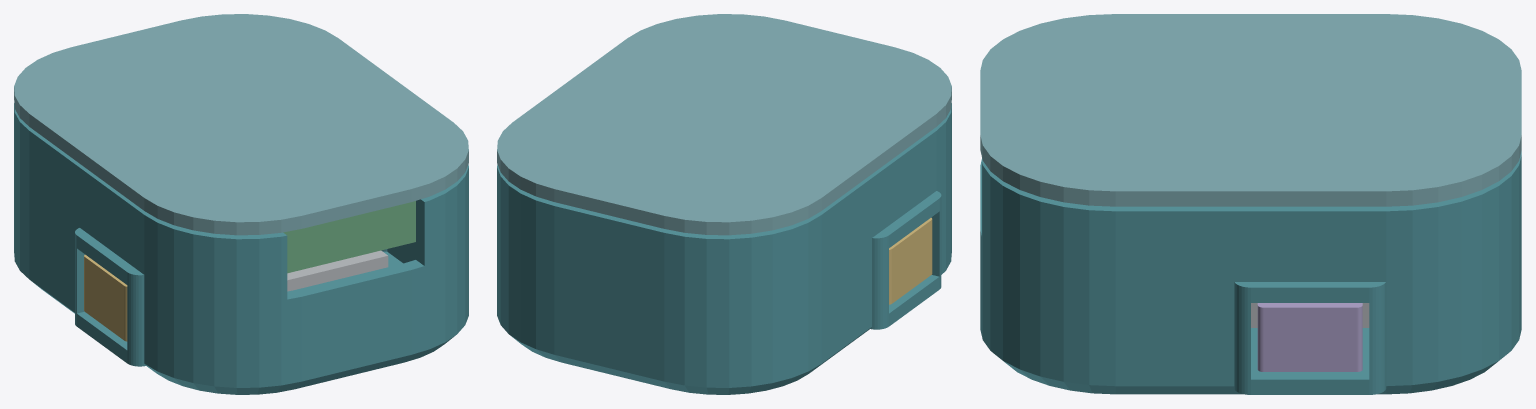
Rendered from Handheld_Right_4Button.glb.
3 views of the same model, side by side, from view 1: azimuth 30°, elevation 25°; view 2: azimuth 150°, elevation 25°; view 3: azimuth 270°, elevation 25° (orthographic). The views are drawn at different scales.
Visible parts, largest first — view 1: Lift_Off_Lid, Handheld_Shell, Board_Envelope, Thumb_Click_Cap, Battery_Envelope; view 2: Lift_Off_Lid, Handheld_Shell, Thumb_Click_Cap; view 3: Lift_Off_Lid, Handheld_Shell, Far_Side_Cap.
Part boxes in pixels (x1,y1,x2,y2): Lift_Off_Lid: (14, 14, 468, 235); Handheld_Shell: (14, 103, 468, 394); Board_Envelope: (283, 201, 415, 273); Thumb_Click_Cap: (84, 254, 127, 341); Battery_Envelope: (287, 250, 388, 291); Lift_Off_Lid: (497, 14, 951, 235); Handheld_Shell: (497, 103, 951, 394); Thumb_Click_Cap: (889, 217, 932, 304); Lift_Off_Lid: (980, 14, 1521, 206); Handheld_Shell: (980, 151, 1521, 394); Far_Side_Cap: (1257, 303, 1362, 371).
Size of the model in its own units: 0.0264 by 0.0168 by 0.032.
